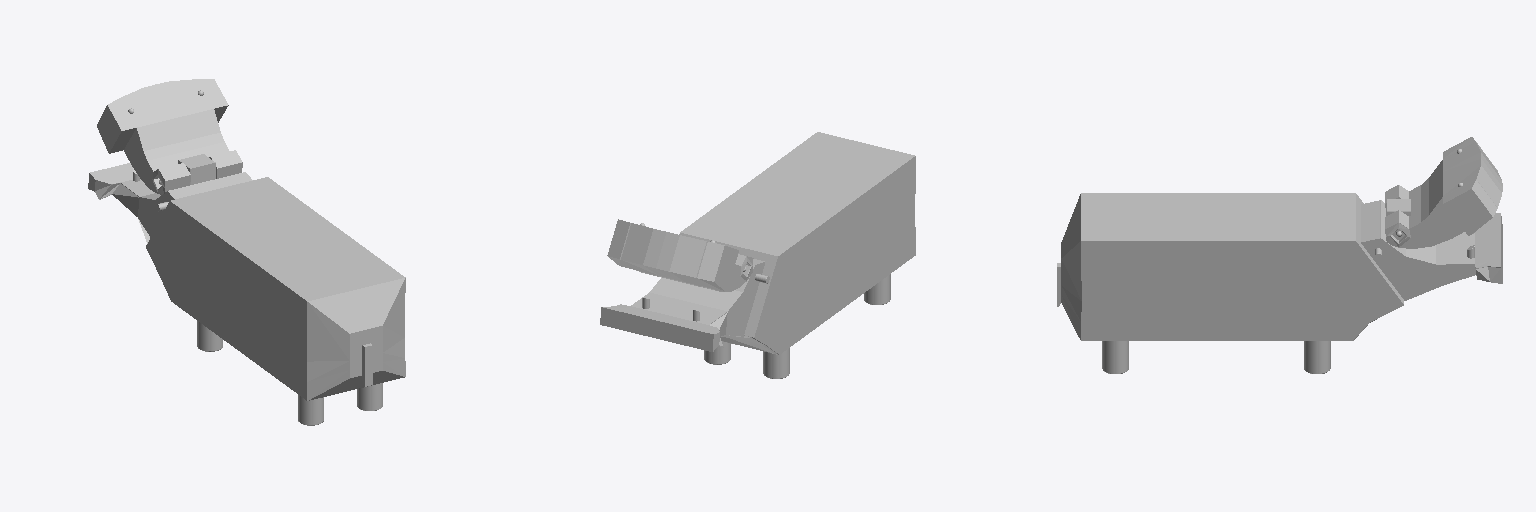
The model's file is hippo.obj.
3 renders of one model, left to right at view 1: azimuth 30°, elevation 25°; view 2: azimuth 150°, elevation 25°; view 3: azimuth 270°, elevation 25°, orthographic.
Parts seen in each view (by area): view 1: default; view 2: default; view 3: default.
Boxes of the visible parts, box(x1,y1,x2,y2) form: default: box(88, 79, 405, 425); default: box(600, 132, 915, 378); default: box(1057, 137, 1502, 373).
Bounding box in the file's own units: 6.88 × 11.41 × 23.61.